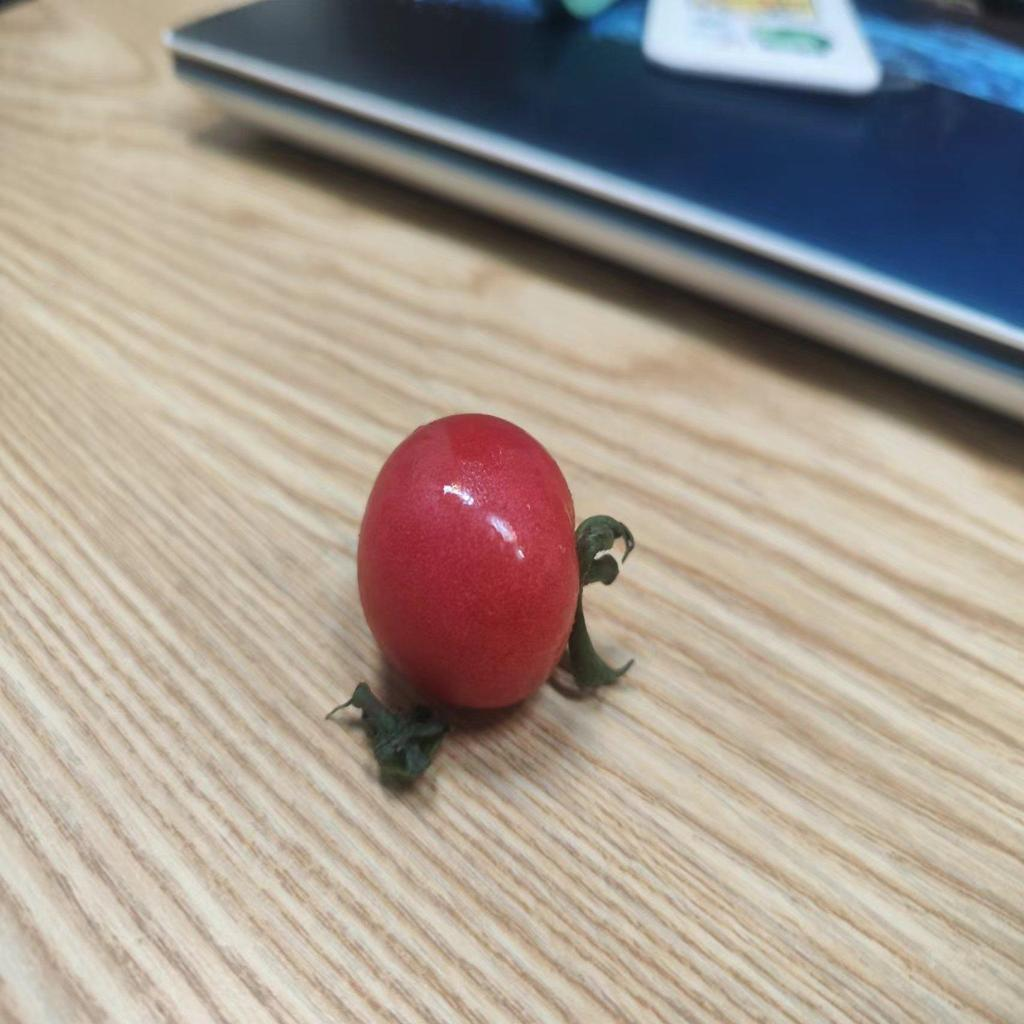tomato: (342, 412, 609, 729)
